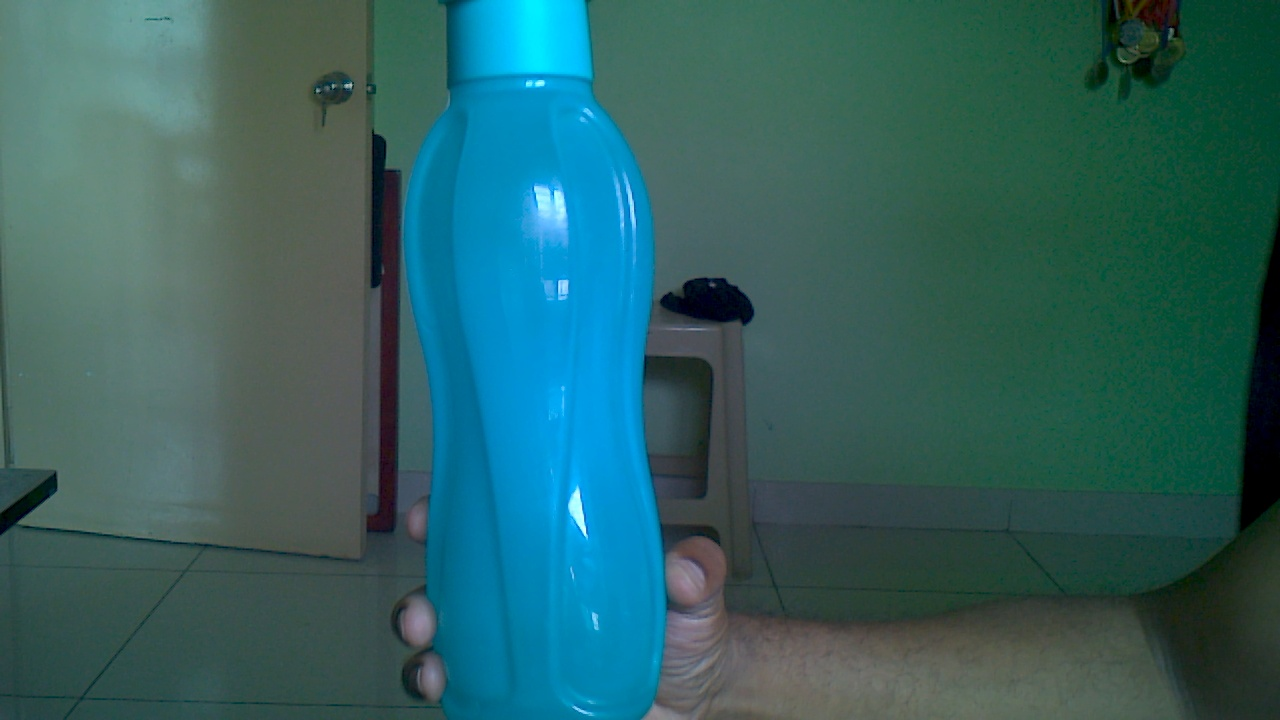waterbottle: (376, 4, 692, 717)
